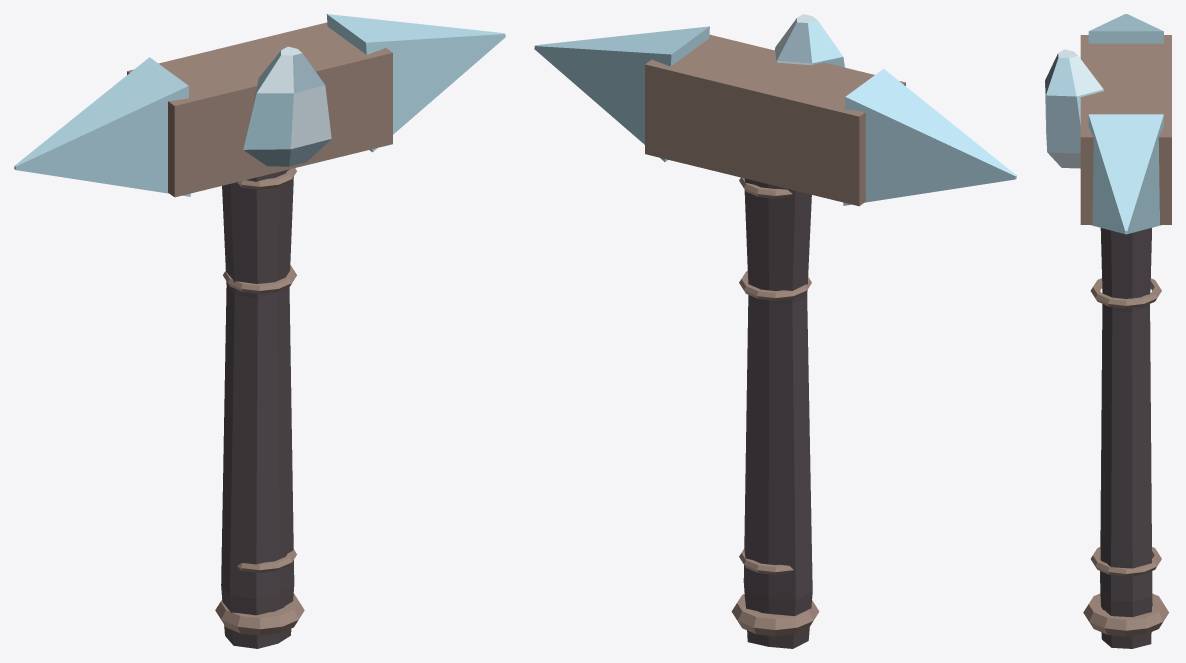
Rendered from BH_PICK_P10_Picareta_Gelo_Fantasma_V01.glb.
3 renders of one model, left to right at view 1: azimuth 30°, elevation 25°; view 2: azimuth 150°, elevation 25°; view 3: azimuth 270°, elevation 25°, orthographic. The views are drawn at different scales.
Visible parts, largest first — view 1: Handle | shaped shaft.001, Head | main crossbar.001, Head | mining tooth L.001, Head | mining tooth R.001, Head | inset mineral.001, Handle | pommel.001, Handle | binding 3.001; view 2: Head | main crossbar.001, Handle | shaped shaft.001, Head | mining tooth L.001, Head | mining tooth R.001, Head | inset mineral.001, Handle | pommel.001, Handle | binding 3.001; view 3: Handle | shaped shaft.001, Head | main crossbar.001, Head | mining tooth R.001, Head | inset mineral.001, Handle | pommel.001, Head | mining tooth L.001, Handle | binding 3.001, Handle | binding 1.001.
Boxes of the visible parts, left/top/right/bottom form: Handle | shaped shaft.001: left=221, top=169, right=294, bottom=648; Head | main crossbar.001: left=127, top=22, right=392, bottom=197; Head | mining tooth L.001: left=14, top=57, right=190, bottom=196; Head | mining tooth R.001: left=326, top=14, right=505, bottom=152; Head | inset mineral.001: left=243, top=46, right=331, bottom=166; Handle | pommel.001: left=215, top=593, right=304, bottom=635; Handle | binding 3.001: left=223, top=265, right=296, bottom=293; Head | main crossbar.001: left=645, top=34, right=905, bottom=206; Handle | shaped shaft.001: left=743, top=178, right=812, bottom=648; Head | mining tooth L.001: left=843, top=69, right=1016, bottom=205; Head | mining tooth R.001: left=534, top=26, right=709, bottom=161; Head | inset mineral.001: left=774, top=14, right=844, bottom=67; Handle | pommel.001: left=731, top=594, right=819, bottom=636; Handle | binding 3.001: left=739, top=271, right=811, bottom=300; Handle | shaped shaft.001: left=1100, top=228, right=1152, bottom=648; Head | main crossbar.001: left=1080, top=35, right=1171, bottom=224; Head | mining tooth R.001: left=1088, top=114, right=1163, bottom=234; Head | inset mineral.001: left=1045, top=49, right=1103, bottom=168; Handle | pommel.001: left=1083, top=593, right=1168, bottom=636; Head | mining tooth L.001: left=1088, top=14, right=1163, bottom=43; Handle | binding 3.001: left=1090, top=278, right=1161, bottom=308; Handle | binding 1.001: left=1090, top=547, right=1161, bottom=576.
Bounding box in the file's own units: 2.02 × 2.39 × 0.4721.
